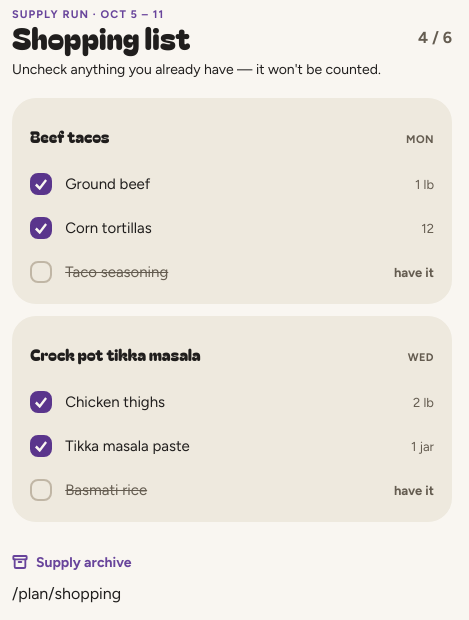
SupplyRunPage › marks an item "have it" by unchecking it
Click the checkbox labelled "Ground beef". click: (41, 184)
box: [30,173,52,195]
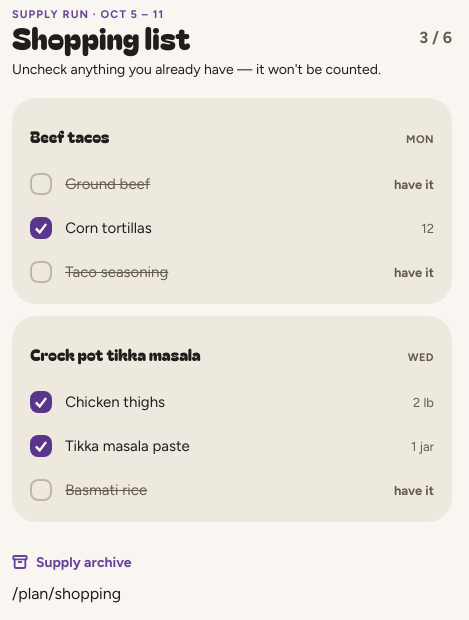
Check: the checkbox labelled "Ground beef" is not checked, box [30,173,52,195]
Check: the text "have it" in the row of "Ground beef" is shown, box [394,177,434,192]
Check: the text "3 / 6" is shown, box [419,28,452,47]
